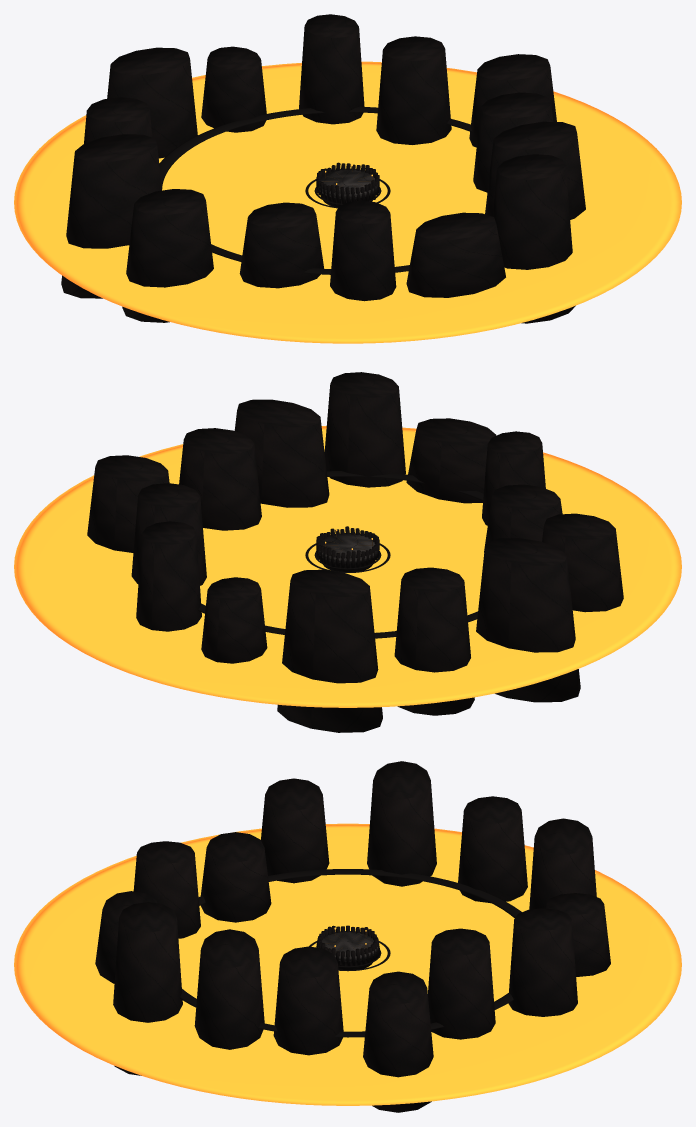
File: scene_boss.glb
3 renders of one model, top to bottom at view 1: azimuth 30°, elevation 25°; view 2: azimuth 150°, elevation 25°; view 3: azimuth 270°, elevation 25°, orthographic.
Visible parts, largest first — view 1: crater_surface.004; view 2: crater_surface.004; view 3: crater_surface.004.
Boxes of the visible parts, bbox=[...] form: crater_surface.004: bbox=[14, 14, 681, 343]; crater_surface.004: bbox=[14, 372, 681, 732]; crater_surface.004: bbox=[14, 761, 681, 1112].
Size of the model in its own units: 260 by 59.76 by 260.
5 materials, 3 textured.
